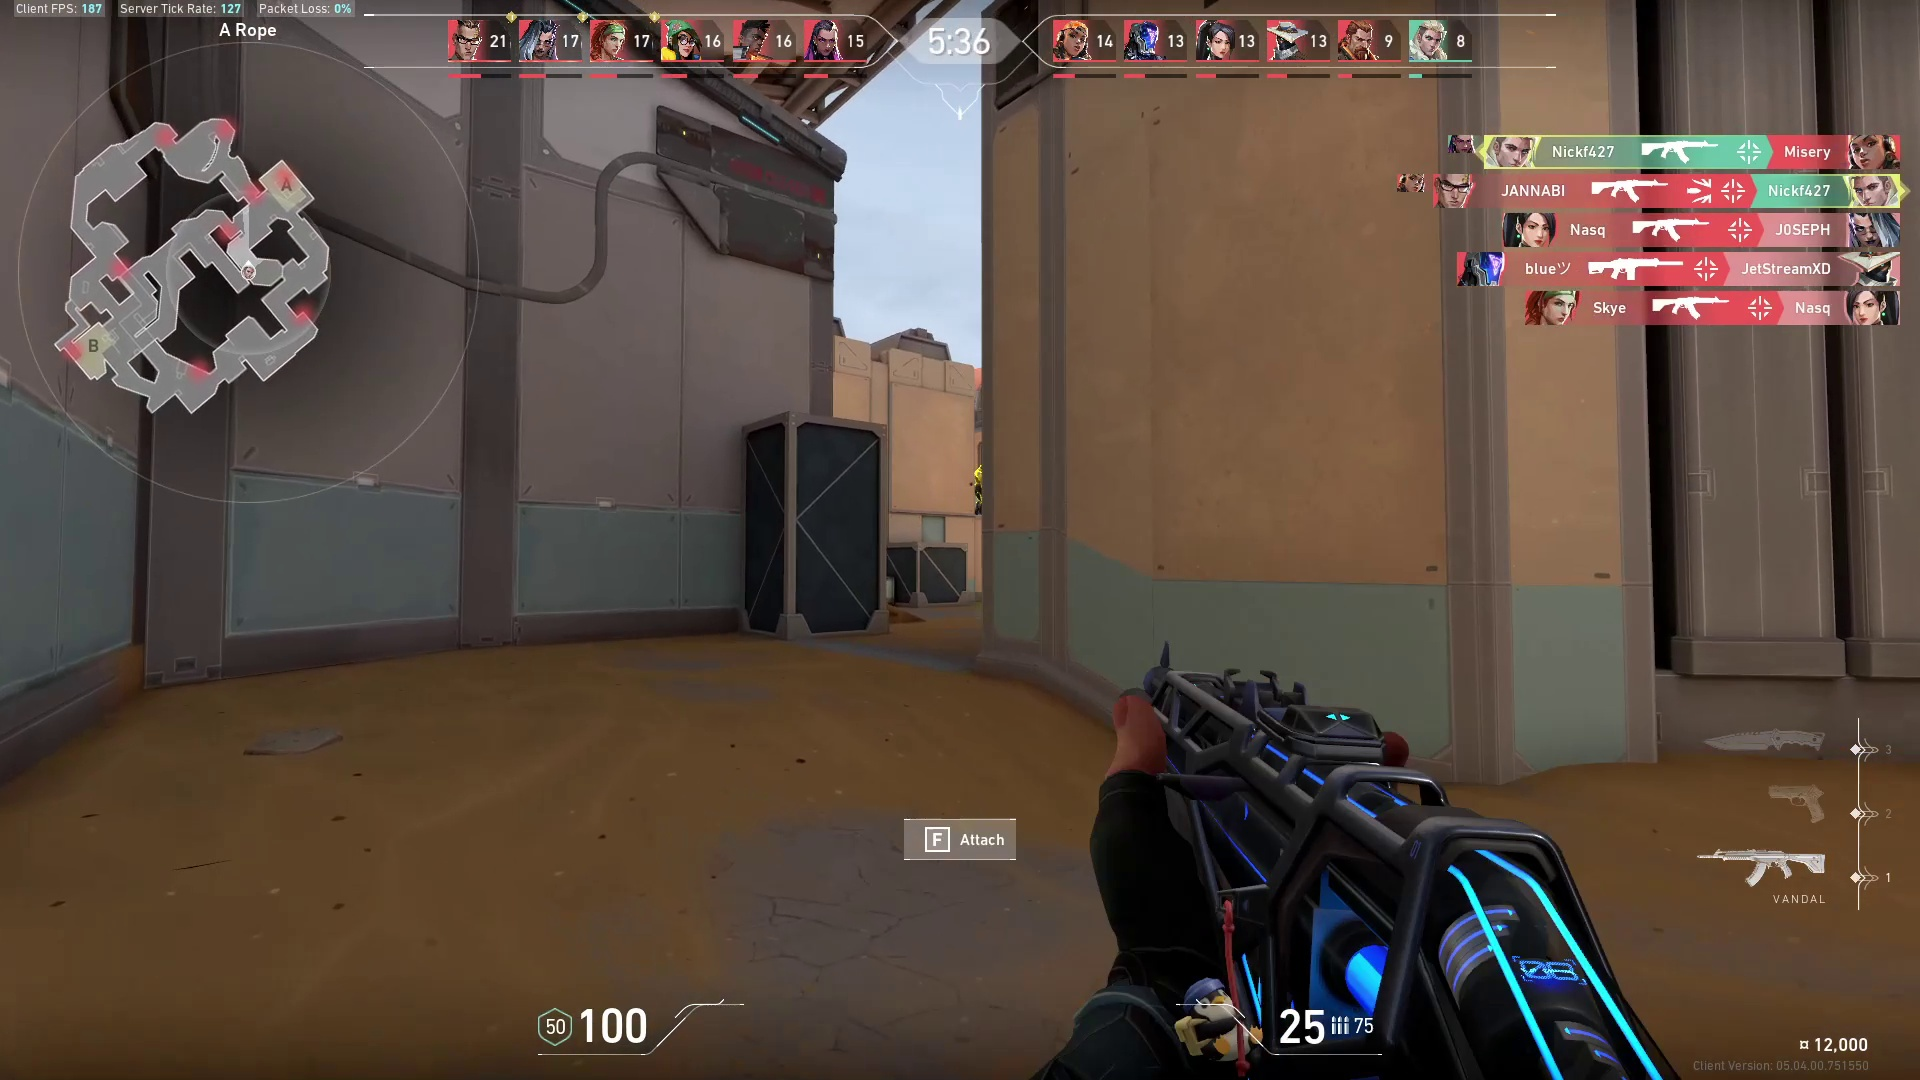enemy_gen: (973, 462, 984, 517)
